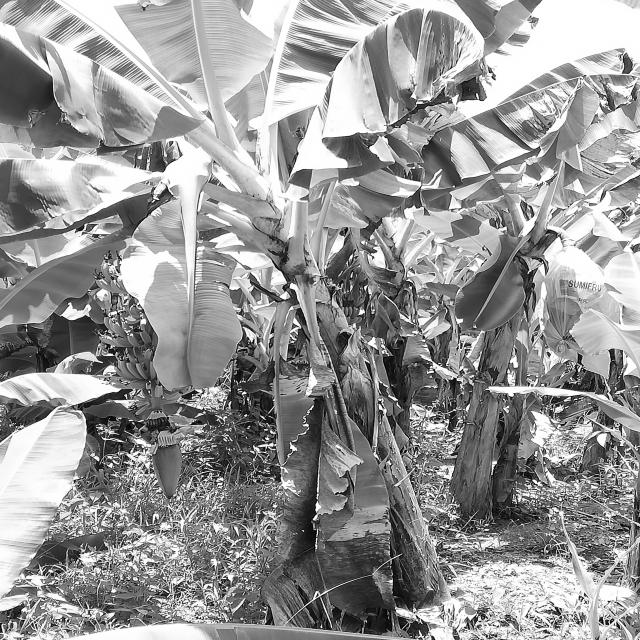Banana-plant: (185, 151, 422, 617), (442, 203, 559, 523)
